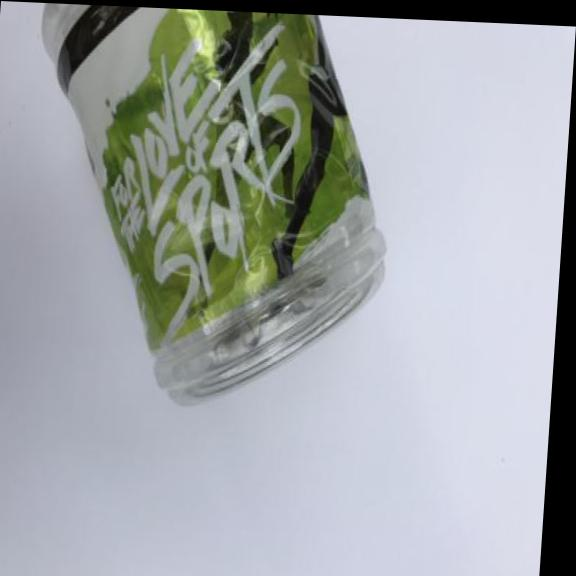Plastik: (12, 2, 408, 425)
